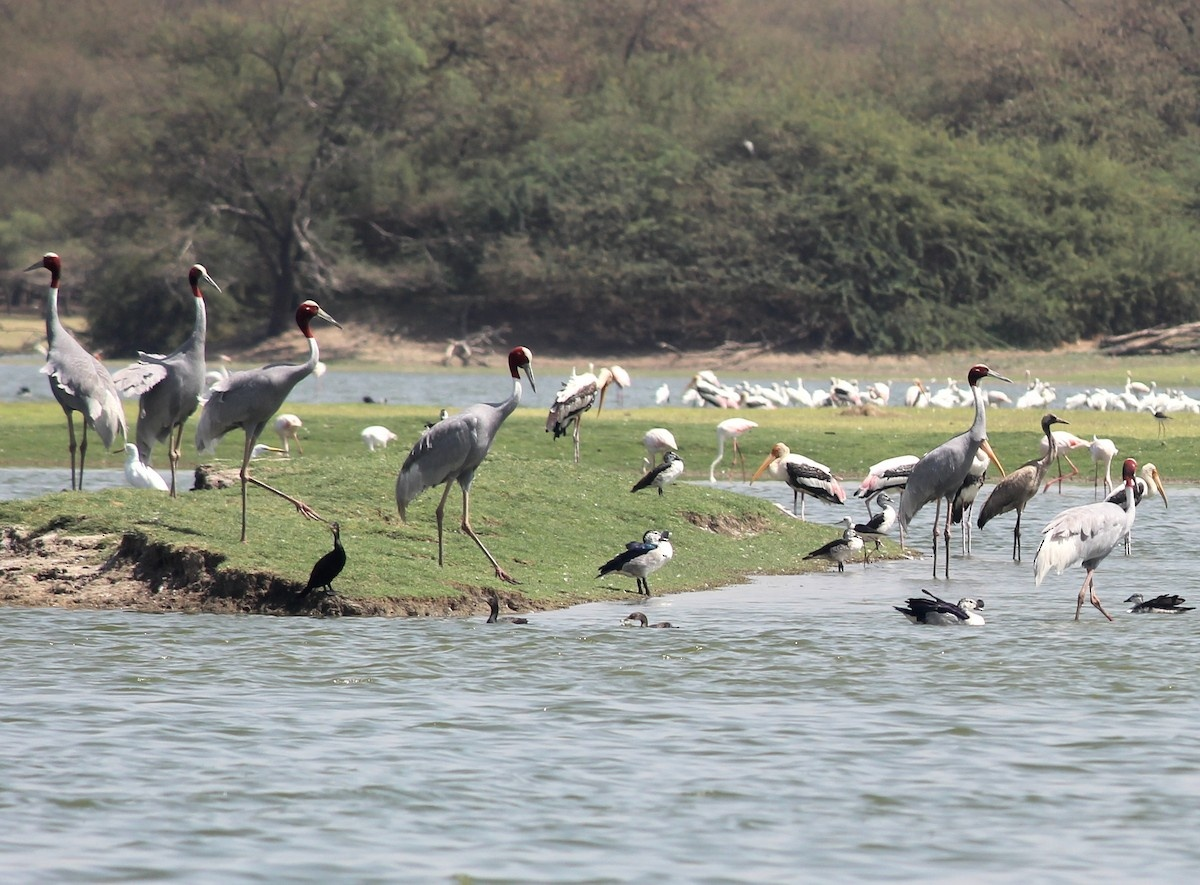crane: (391, 338, 543, 575), (203, 289, 344, 526), (902, 358, 1013, 583), (20, 245, 125, 480), (135, 245, 233, 494), (1040, 452, 1142, 638), (981, 413, 1069, 556)
